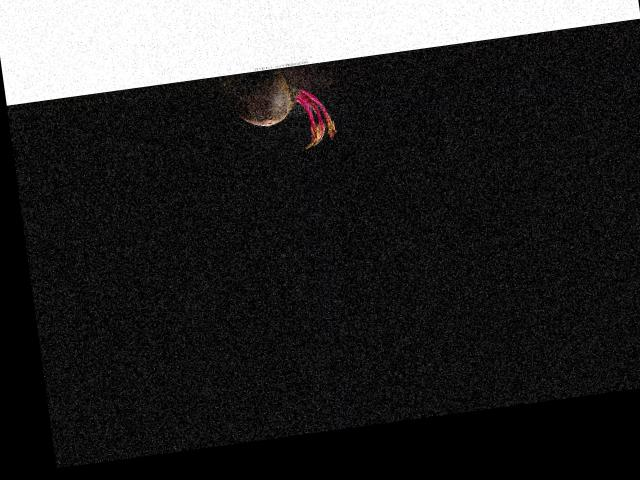beet: (215, 61, 337, 159)
